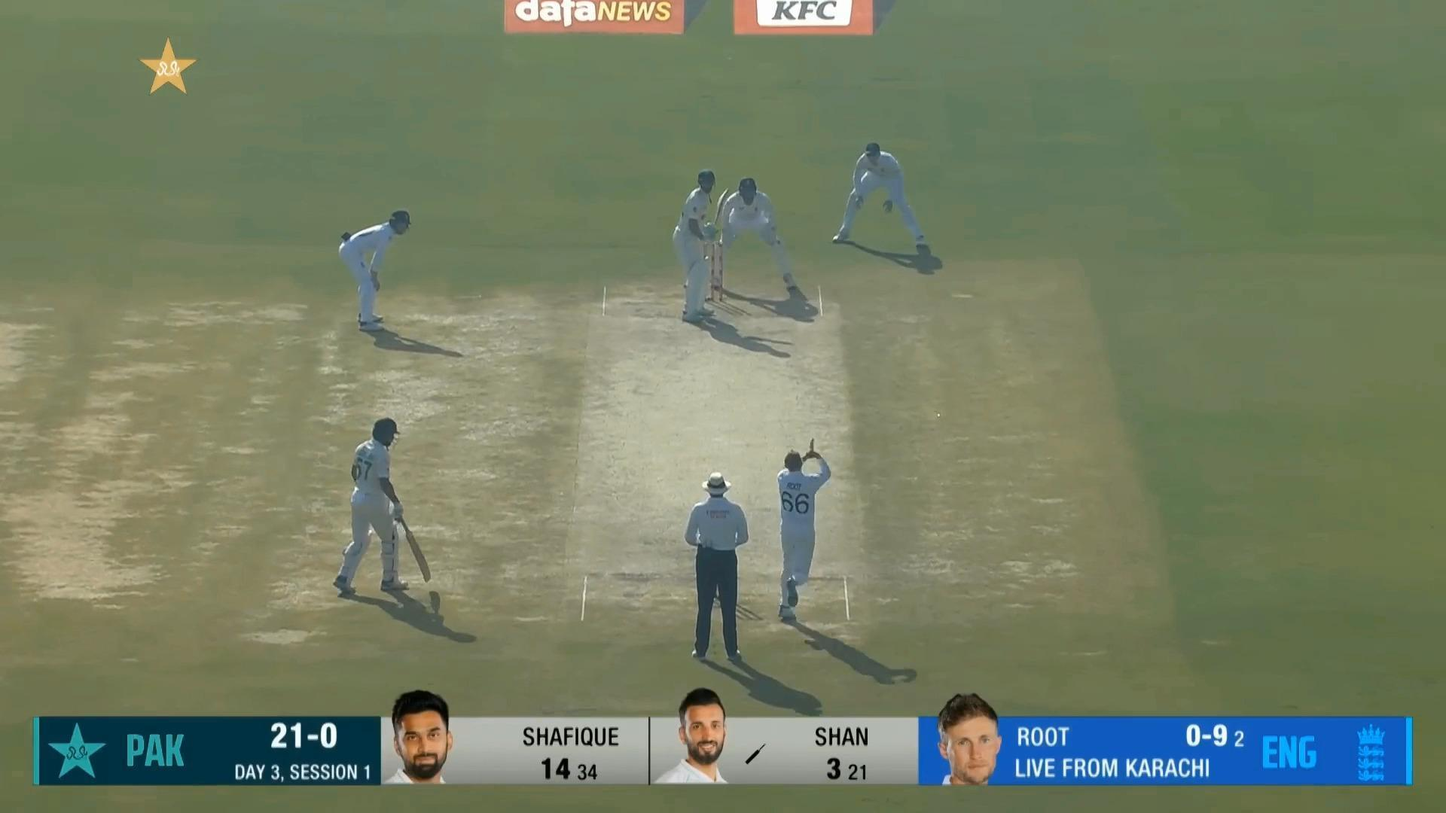BM 1: (673, 170, 730, 323)
BO: (776, 436, 833, 619)
